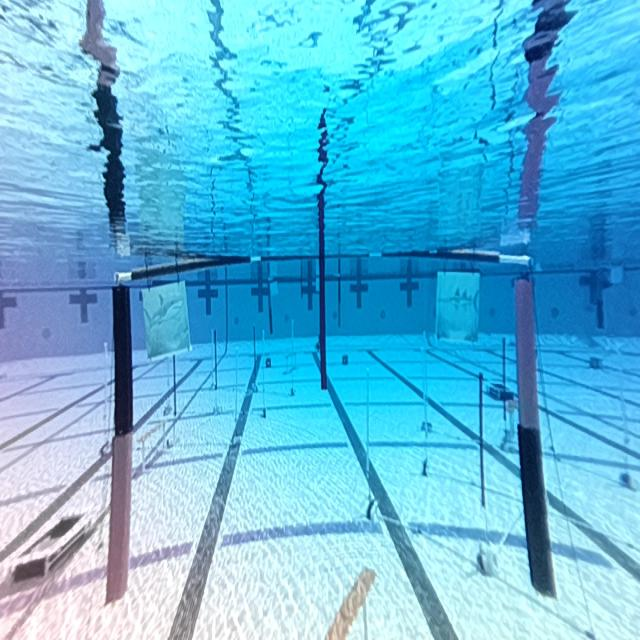pointed_nose: (437, 272, 481, 348)
round_nose: (140, 280, 192, 361)
